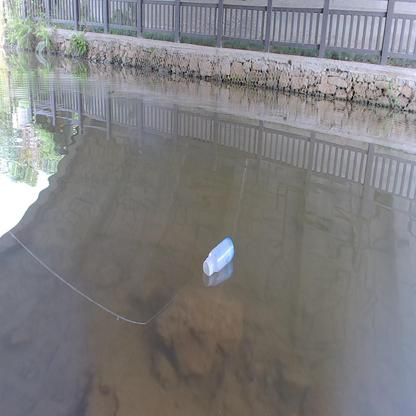plastic bottle: (202, 236, 236, 276)
